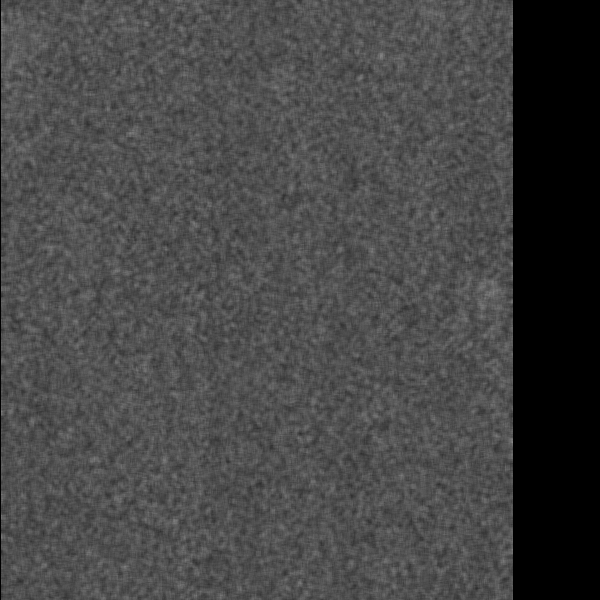spark: (97, 282, 159, 341), (76, 49, 102, 73)
